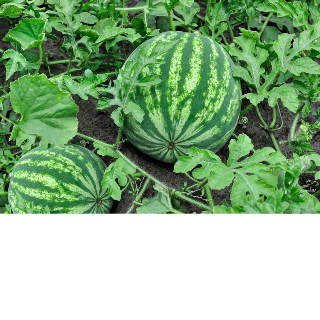dua_hau: (111, 26, 245, 172), (4, 139, 125, 214)
